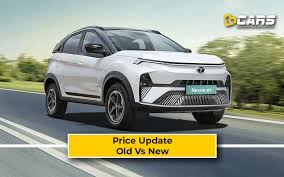Tata Nexon: (43, 23, 233, 132)
